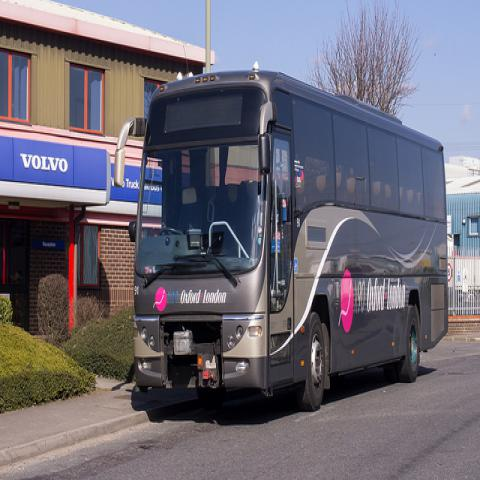bus: (124, 63, 450, 413)
